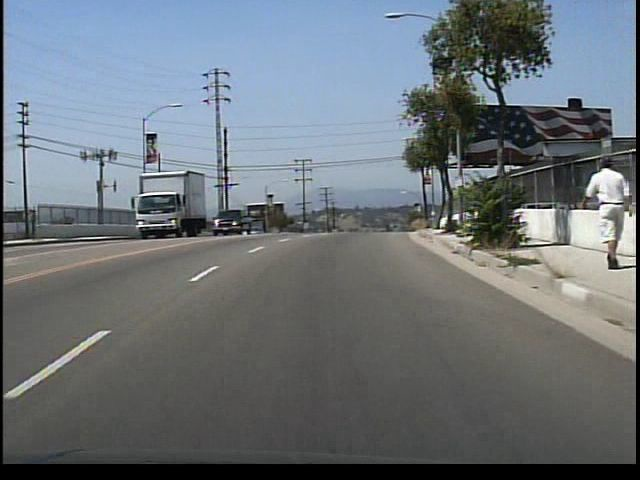person: (579, 152, 623, 271)
